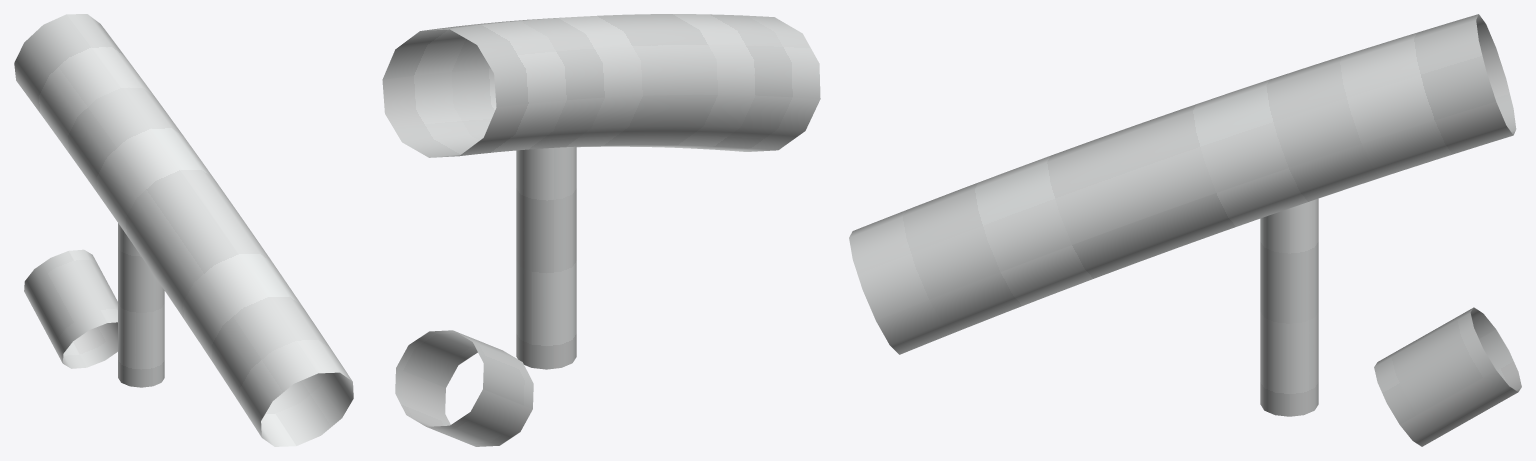
Rendered from luminairearm_truss12ft_c4.obj.
The picture shows the model from 3 angles, left to right: view 1: azimuth 30°, elevation 25°; view 2: azimuth 150°, elevation 25°; view 3: azimuth 270°, elevation 25°; orthographic projection. The views are drawn at different scales.
Visible parts, largest first — view 1: luminairearm_truss12ft_c4; view 2: luminairearm_truss12ft_c4; view 3: luminairearm_truss12ft_c4.
Boxes of the visible parts, bbox=[...] form: luminairearm_truss12ft_c4: bbox=[14, 14, 353, 446]; luminairearm_truss12ft_c4: bbox=[382, 14, 820, 446]; luminairearm_truss12ft_c4: bbox=[849, 14, 1521, 446].
Size of the model in its own units: 0.215 by 0.7502 by 1.09.
